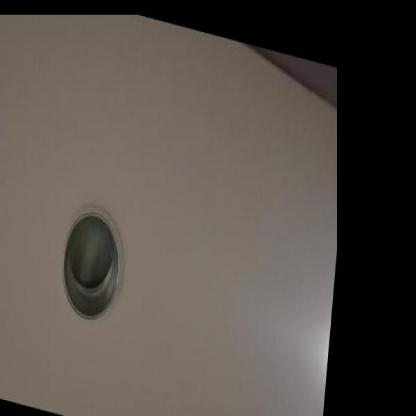light_off: (41, 161, 140, 351)
